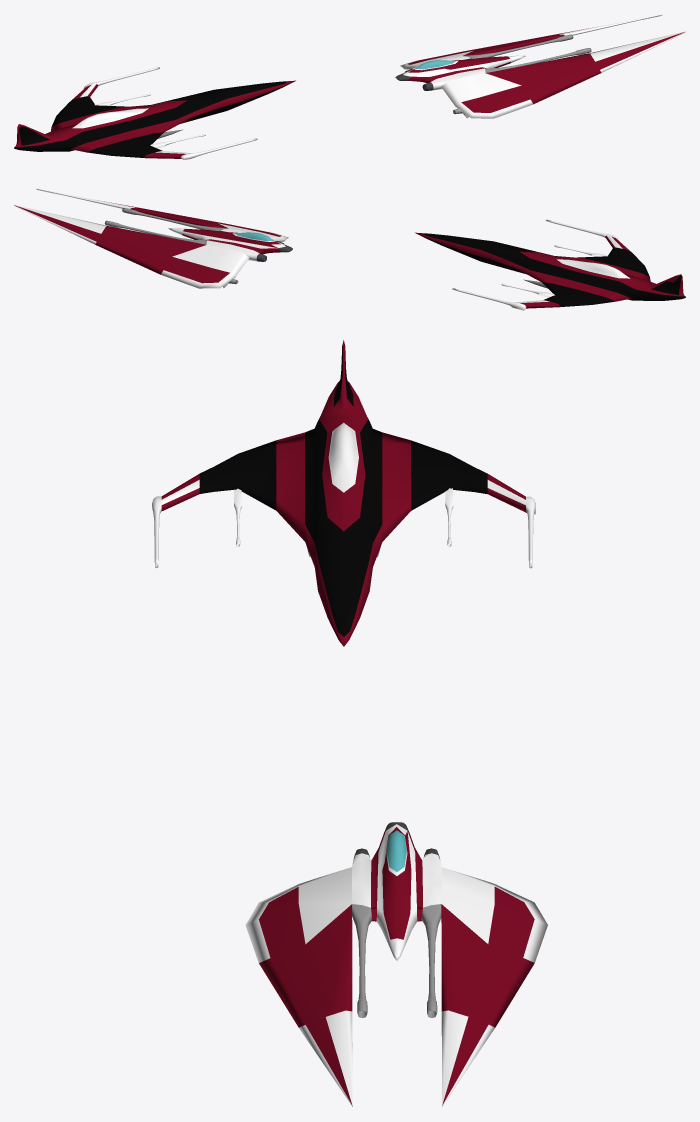
3 views of the same model, one above another, from view 1: azimuth 30°, elevation 25°; view 2: azimuth 150°, elevation 25°; view 3: azimuth 270°, elevation 25° (orthographic). The views are drawn at different scales.
Parts seen in each view (by area): view 1: Other Starfighter, Starfighter; view 2: Other Starfighter, Starfighter; view 3: Other Starfighter, Starfighter.
Part boxes in pixels (x1,y1,x2,y2): Other Starfighter: (395, 14, 685, 118); Starfighter: (14, 67, 295, 159); Other Starfighter: (14, 188, 292, 288); Starfighter: (415, 219, 685, 310); Other Starfighter: (245, 822, 547, 1106); Starfighter: (152, 340, 535, 646).
Size of the model in its own units: 488 by 60.19 by 129.
